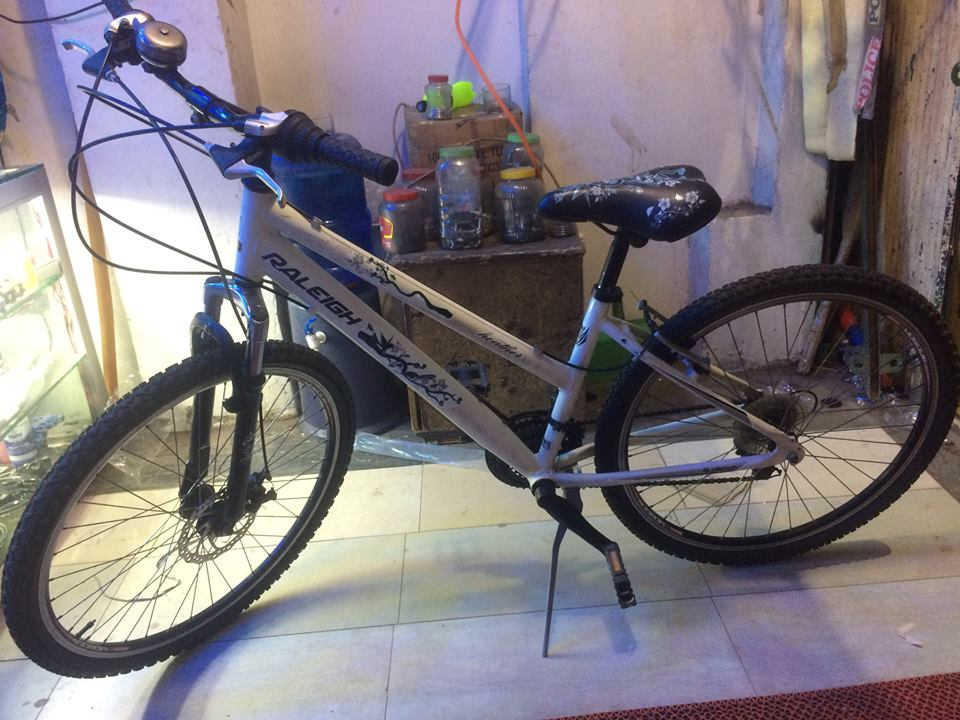bicycle: (1, 12, 951, 684)
